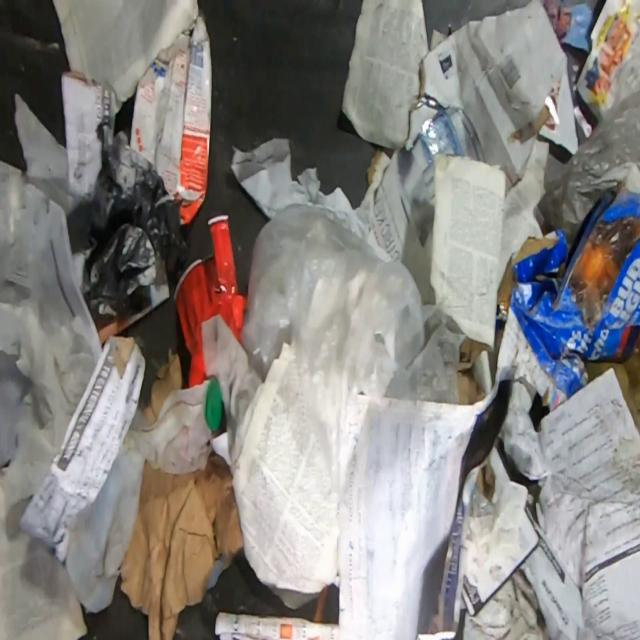cardboard: (366, 3, 565, 305), (495, 162, 640, 414), (126, 6, 212, 230)
rigid_plastic: (173, 213, 248, 389)
soft_plastic: (242, 202, 462, 495), (80, 126, 192, 316), (0, 160, 100, 353), (468, 483, 502, 516)
